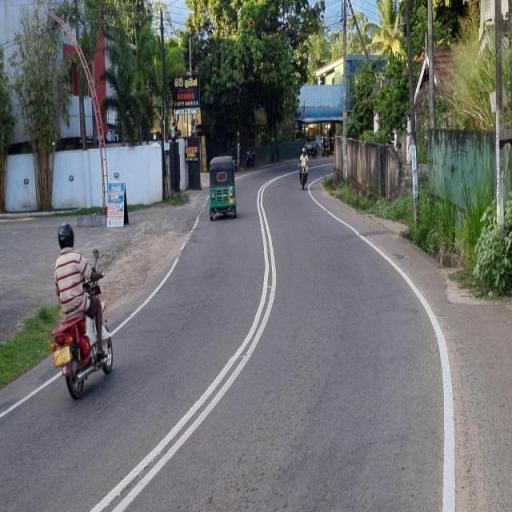double_white_line: (85, 219, 274, 511)
